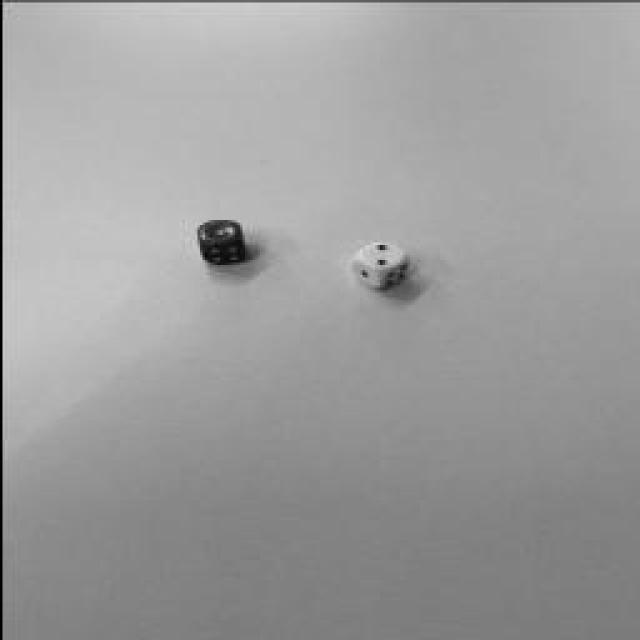dice_1: (195, 218, 237, 242)
dice_2: (358, 242, 402, 266)
